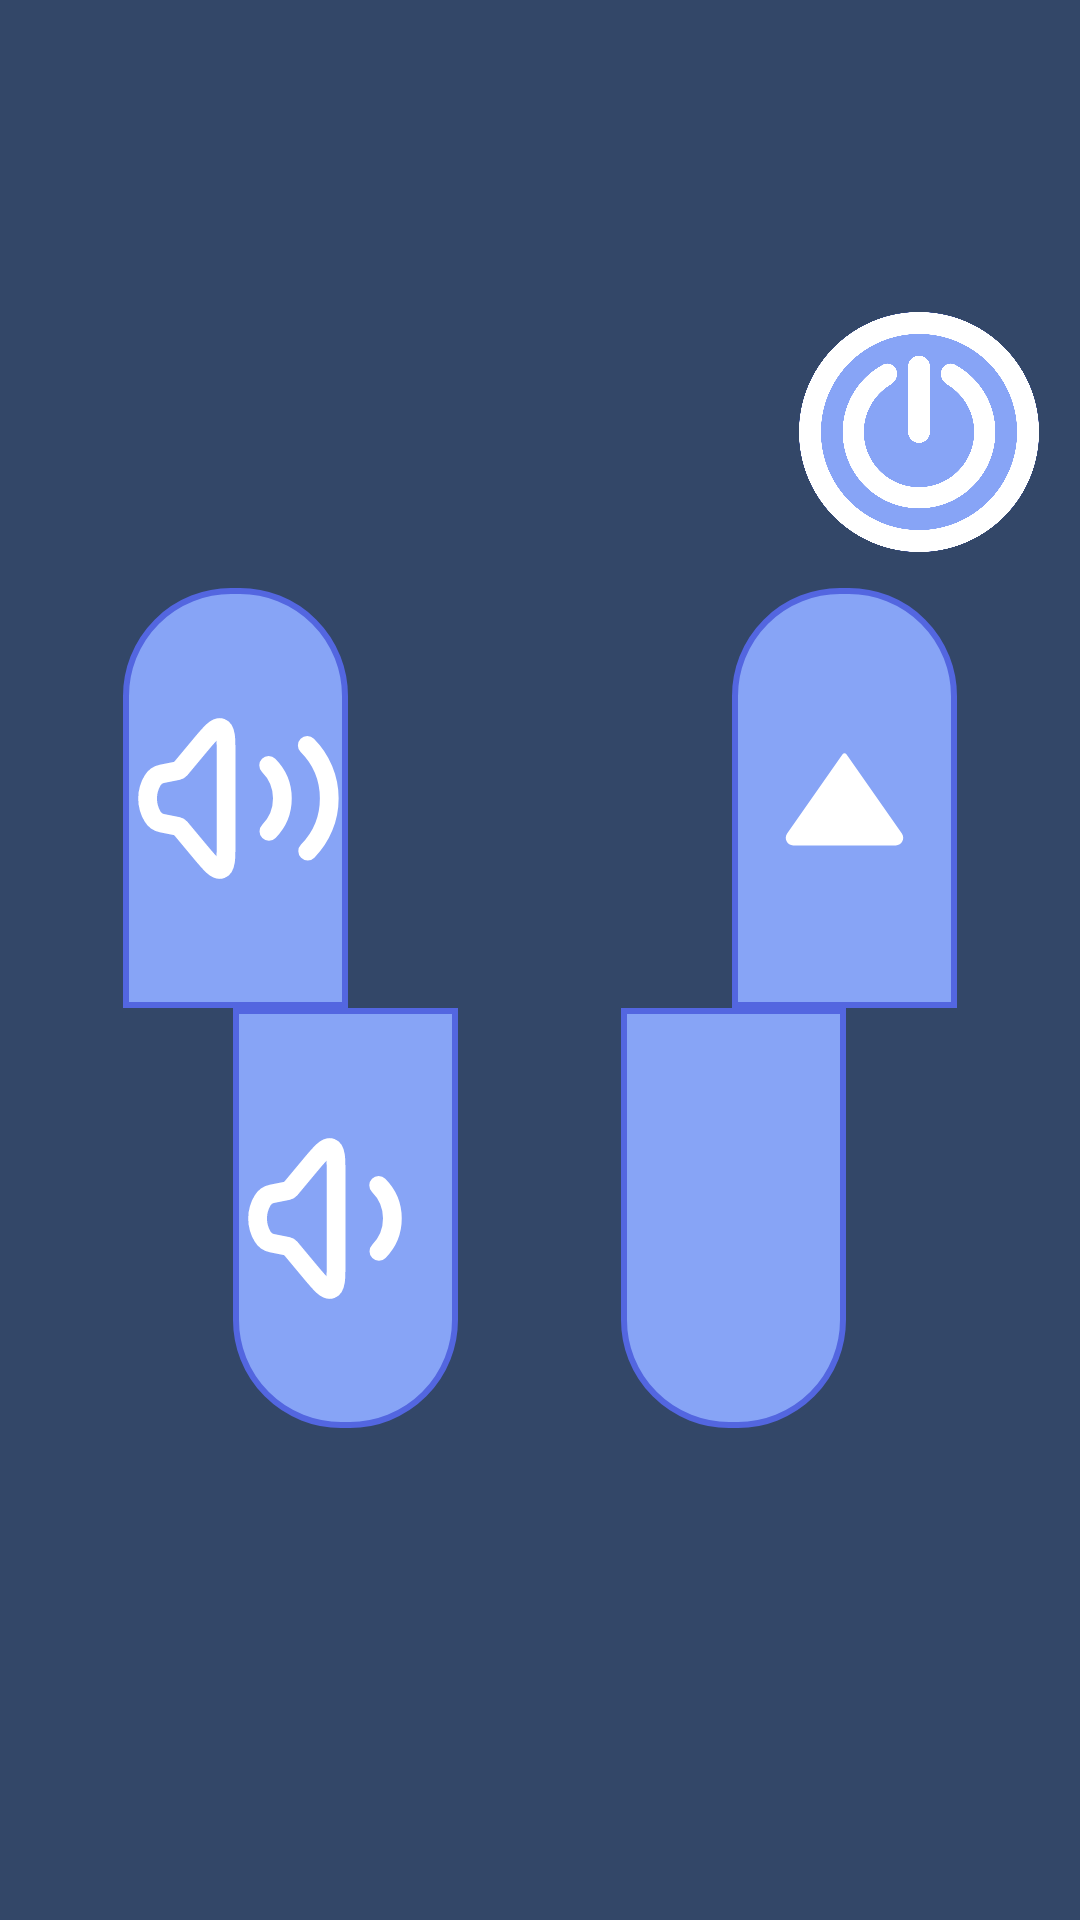

Where icons sit on this 1080×1920 app screen, as region(x1, y1, x2, y2):
encendido: region(799, 312, 1039, 552)
